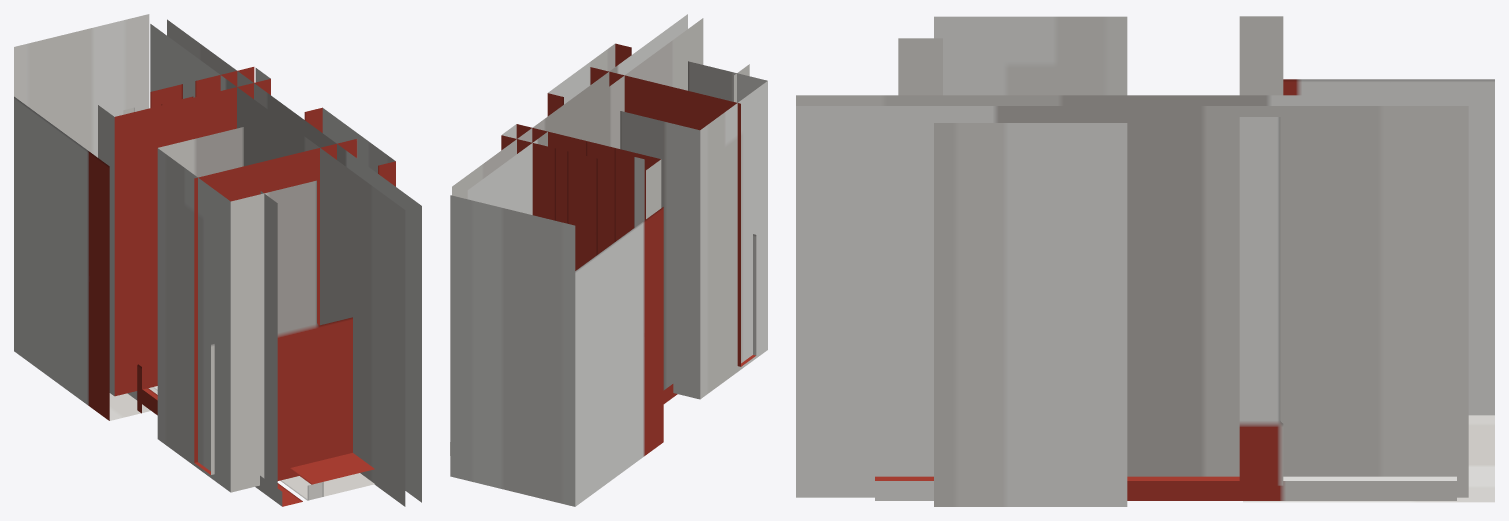
Rendered from section-5.obj.
3 views of the same model, side by side, from view 1: azimuth 30°, elevation 25°; view 2: azimuth 150°, elevation 25°; view 3: azimuth 270°, elevation 25° (orthographic). The views are drawn at different scales.
Size of the model in its own units: 0.53 by 0.91 by 1.44.
